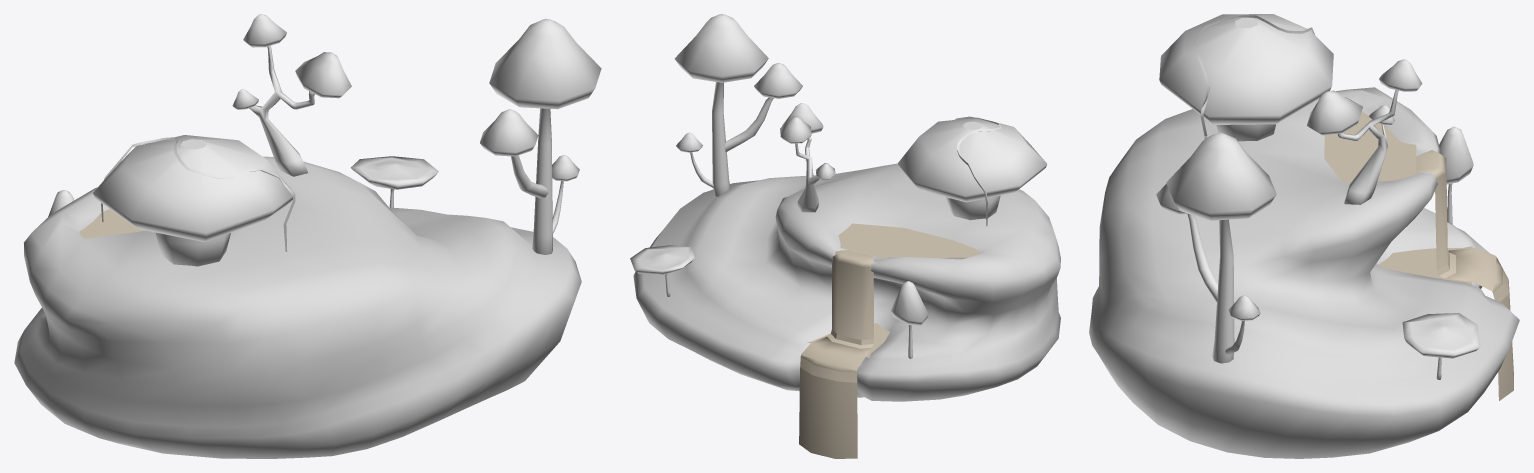
File: Msh_Level2_Env.fbx
3 renders of one model, left to right at view 1: azimuth 30°, elevation 25°; view 2: azimuth 150°, elevation 25°; view 3: azimuth 270°, elevation 25°, orthographic. The views are drawn at different scales.
Parts seen in each view (by area): view 1: Msh_Diorama_Mushrooms_Env, level2, Mushroom_v012, Mushroom_v011, Msh_CascadeLake_Env; view 2: Msh_Diorama_Mushrooms_Env, Msh_Cascade_Fall_Env, level2, Mushroom_v012, Msh_CascadeLake_Env, Mushroom_v011, Mushroom_v010; view 3: Msh_Diorama_Mushrooms_Env, Mushroom_v012, level2, Msh_CascadeLake_Env, Msh_Cascade_Fall_Env, Mushroom_v011, Mushroom_v010.
Boxes of the visible parts, bbox=[...] form: Msh_Diorama_Mushrooms_Env: bbox=[14, 156, 581, 458]; level2: bbox=[232, 14, 601, 254]; Mushroom_v012: bbox=[93, 135, 295, 266]; Mushroom_v011: bbox=[350, 156, 438, 207]; Msh_CascadeLake_Env: bbox=[79, 209, 144, 238]; Msh_Diorama_Mushrooms_Env: bbox=[633, 163, 1060, 401]; Msh_Cascade_Fall_Env: bbox=[799, 250, 873, 458]; level2: bbox=[674, 14, 835, 212]; Mushroom_v012: bbox=[897, 116, 1047, 226]; Msh_CascadeLake_Env: bbox=[807, 223, 981, 357]; Mushroom_v011: bbox=[630, 245, 694, 296]; Mushroom_v010: bbox=[891, 281, 928, 358]; Msh_Diorama_Mushrooms_Env: bbox=[1089, 87, 1519, 458]; Mushroom_v012: bbox=[1159, 14, 1333, 141]; level2: bbox=[1156, 59, 1422, 363]; Msh_CascadeLake_Env: bbox=[1324, 111, 1472, 284]; Msh_Cascade_Fall_Env: bbox=[1416, 150, 1513, 400]; Mushroom_v011: bbox=[1402, 313, 1480, 379]; Mushroom_v010: bbox=[1439, 126, 1473, 224].
Size of the model in its own units: 4.16 by 3.11 by 3.05.
